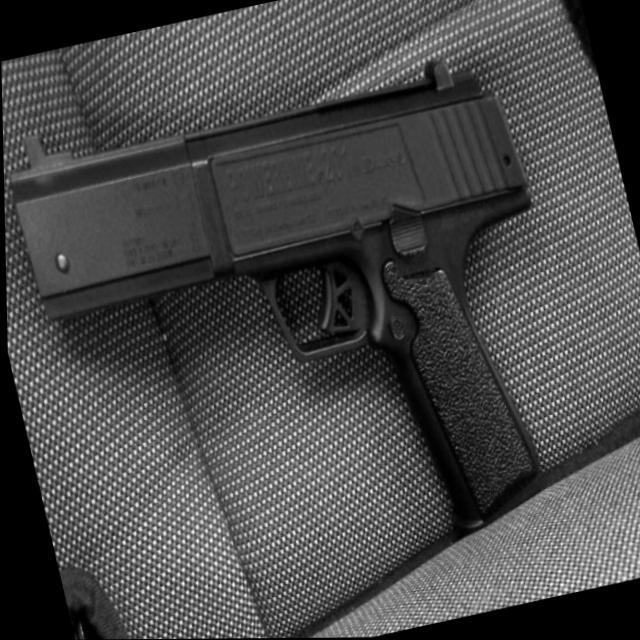weapon: (0, 30, 602, 611)
